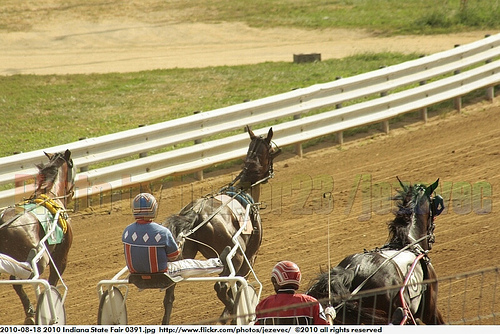horse: (158, 124, 280, 326), (323, 176, 446, 325), (1, 145, 78, 323)
